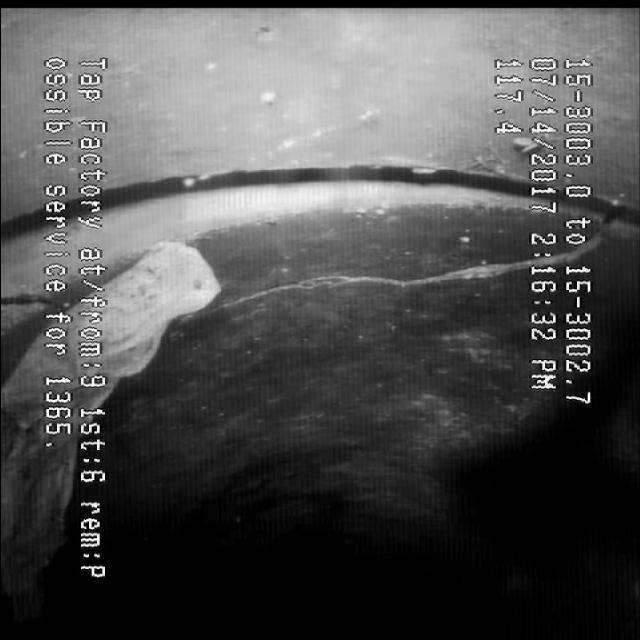Crack: (218, 242, 501, 330)
